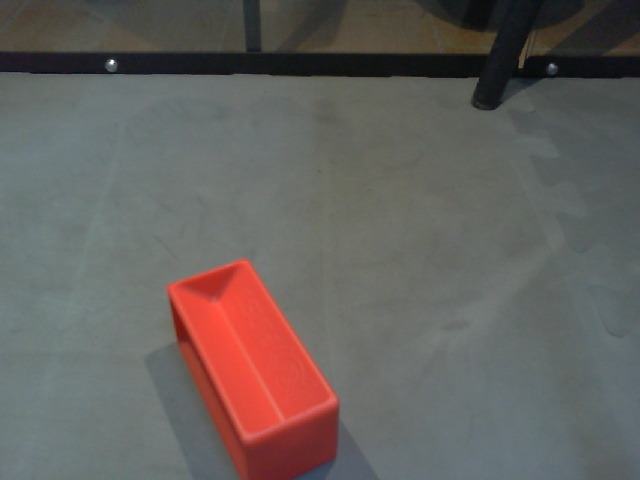RedSample: (166, 257, 343, 478)
